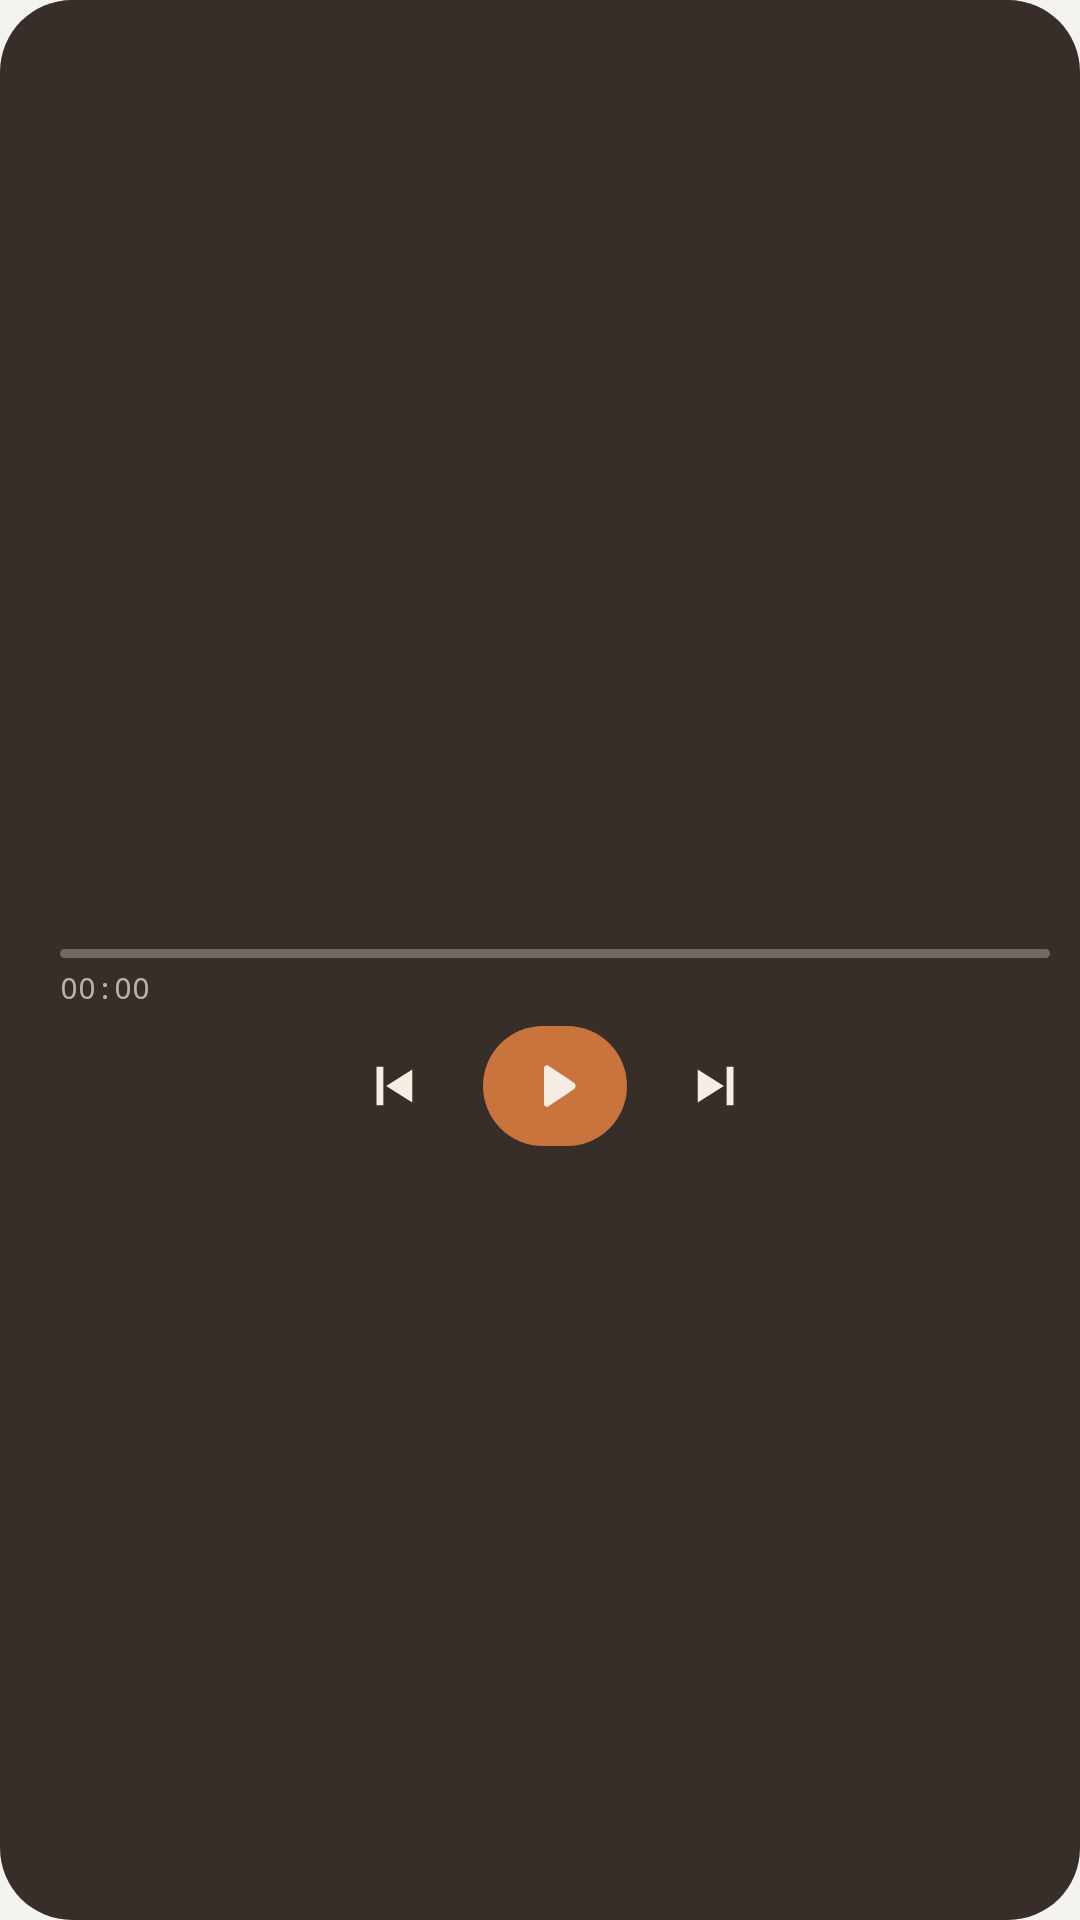

Screen size 1080*1920. Icon name, then its box in pixels as [x1, y1, x2, y2]:
Next: [697, 1066, 734, 1106]
Play or pause: [483, 1026, 627, 1146]
Previous: [376, 1066, 413, 1106]
